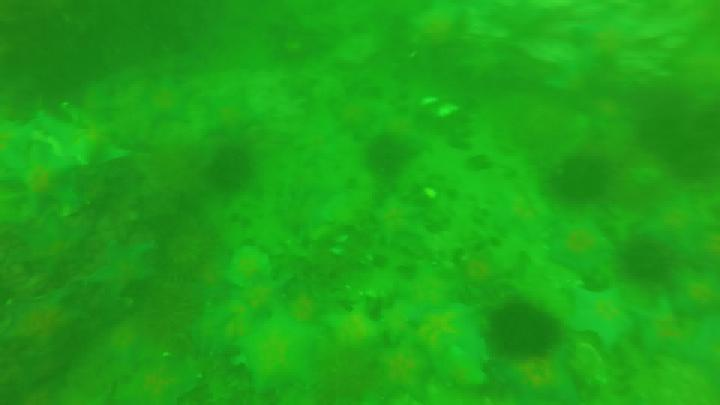echinus: (236, 308, 330, 400), (40, 95, 122, 178), (3, 136, 78, 224), (405, 296, 486, 371), (75, 234, 158, 304), (565, 282, 641, 355), (6, 289, 84, 349), (490, 305, 567, 358), (549, 214, 617, 273), (115, 363, 201, 405), (641, 301, 690, 369), (628, 240, 682, 287), (207, 144, 253, 190), (557, 159, 607, 198), (364, 139, 409, 175)
